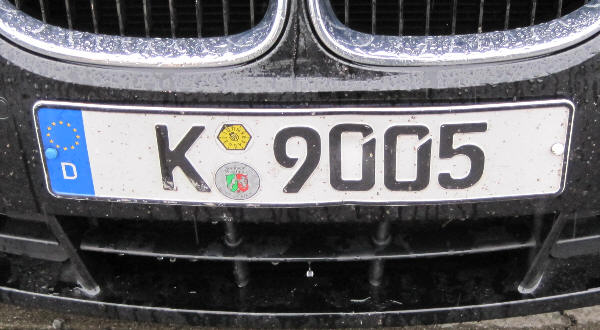license_plate: (32, 101, 574, 199)
